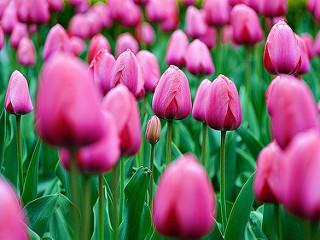tulip: (33, 54, 105, 143), (152, 152, 217, 240), (264, 21, 303, 74), (154, 64, 190, 119), (206, 72, 241, 128), (111, 48, 147, 98), (5, 69, 32, 116)
